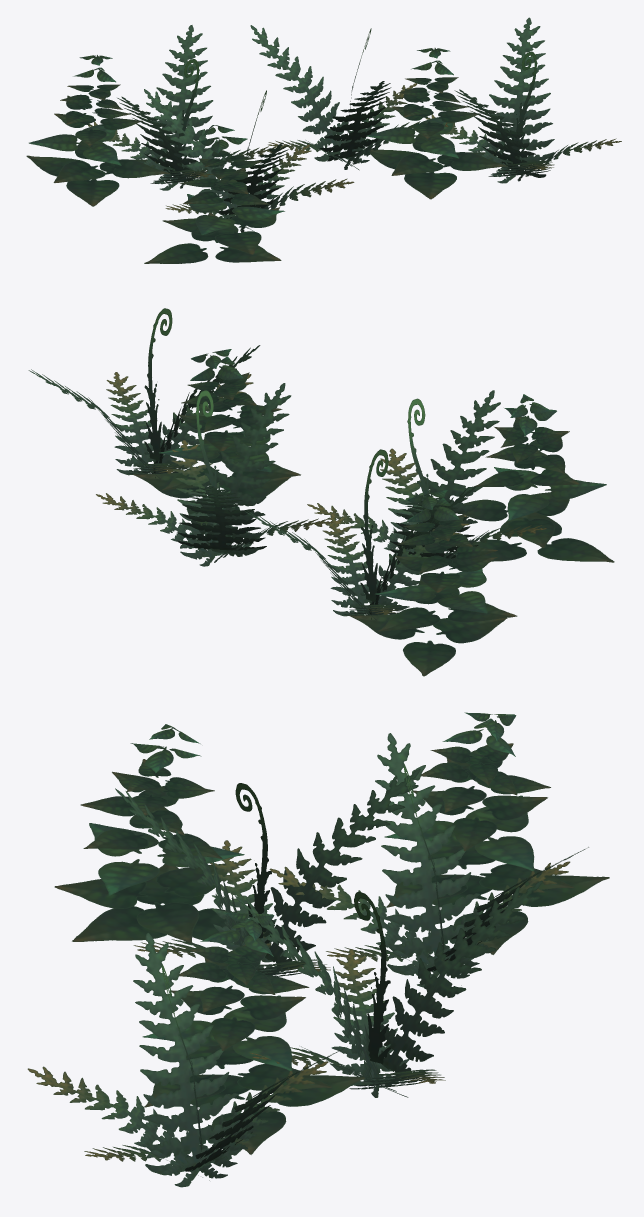
The model's file is cao2.fbx.
3 views of the same model, one above another, from view 1: azimuth 30°, elevation 25°; view 2: azimuth 150°, elevation 25°; view 3: azimuth 270°, elevation 25° (orthographic). The views are drawn at different scales.
Visible parts, largest first — view 1: cao2; view 2: cao2; view 3: cao2.
Part boxes in pixels (bbox=[...]): cao2: bbox=[26, 17, 621, 263]; cao2: bbox=[28, 308, 614, 676]; cao2: bbox=[27, 712, 609, 1187].
Size of the model in its own units: 881 by 251 by 628.
